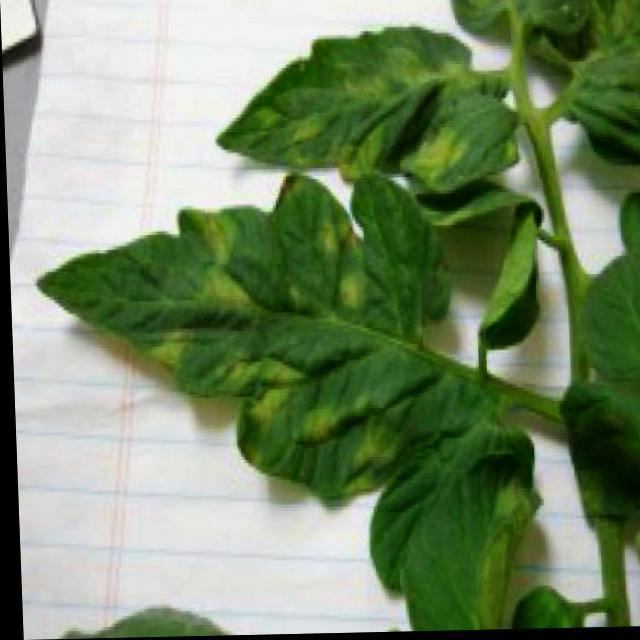Tomato mold leaf: (28, 174, 500, 531), (209, 25, 492, 196)
